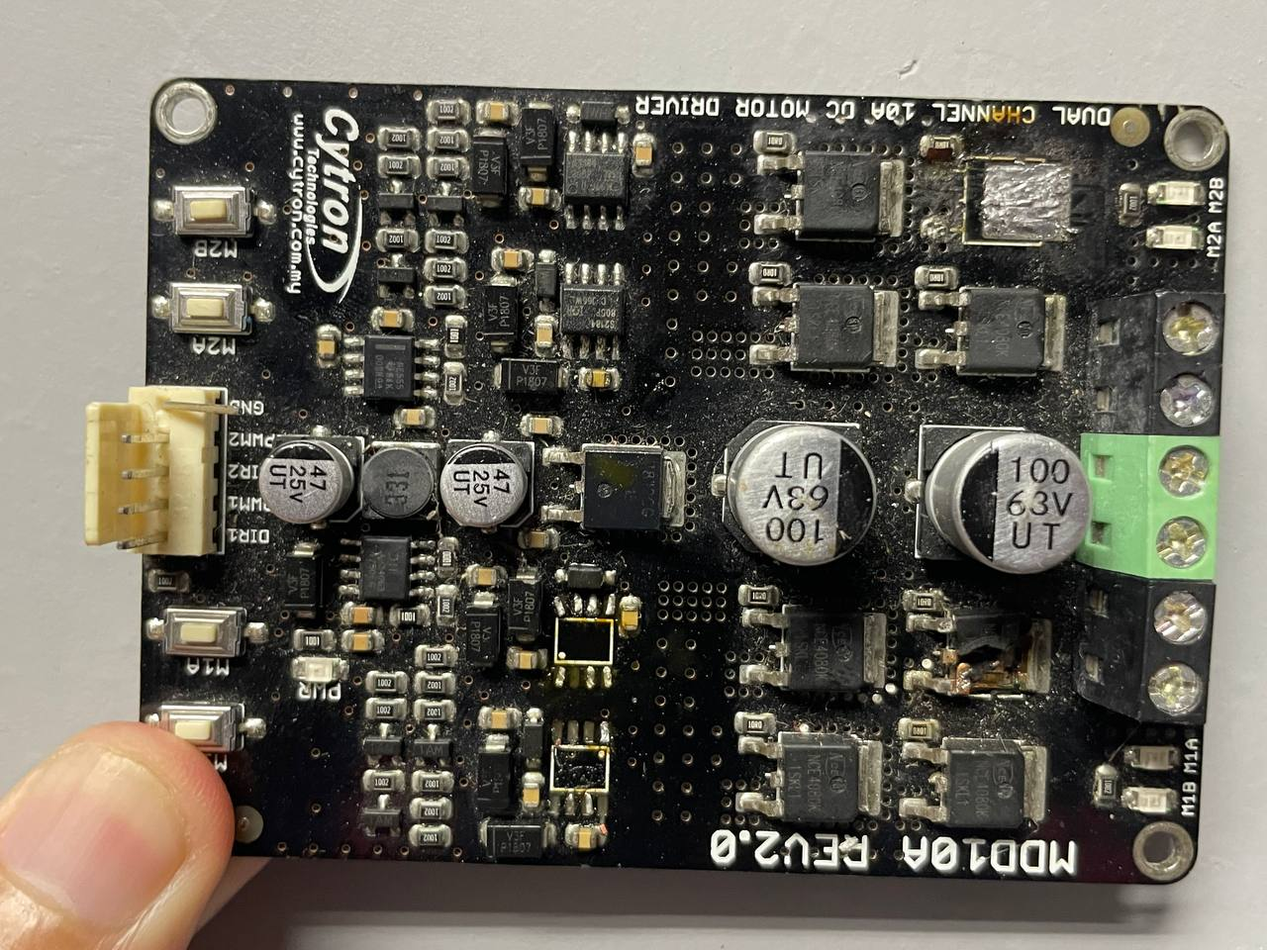bent_pin: (151, 392, 250, 424)
broken_comp: (937, 604, 1046, 706)
missing_comp: (948, 152, 1065, 252), (540, 737, 617, 799), (547, 608, 620, 672)
